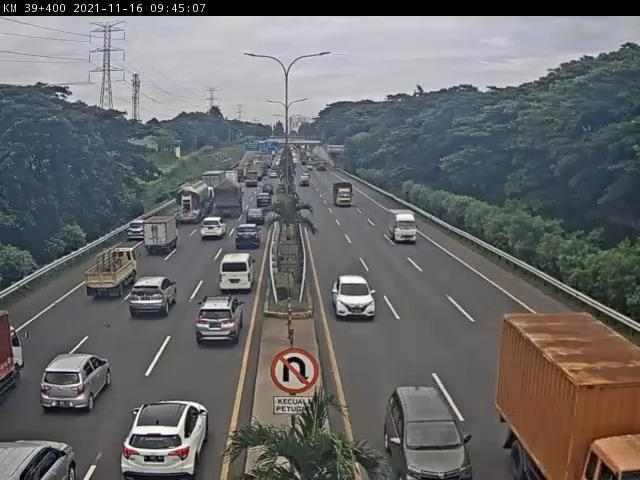car: (388, 387, 475, 480), (121, 402, 213, 480), (41, 354, 114, 412), (198, 300, 245, 348), (128, 276, 179, 318), (332, 273, 376, 319), (219, 256, 256, 294), (235, 226, 261, 250), (201, 219, 227, 241), (128, 222, 148, 245), (245, 210, 267, 228)
truck: (503, 314, 640, 480), (86, 247, 142, 299), (173, 182, 213, 224), (144, 218, 179, 257), (211, 183, 244, 223), (389, 210, 422, 245)
